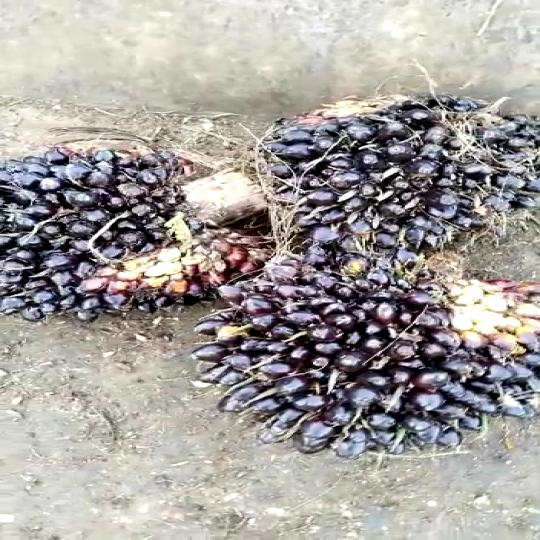mentah: (190, 254, 522, 476), (216, 72, 540, 272), (0, 127, 211, 340)
